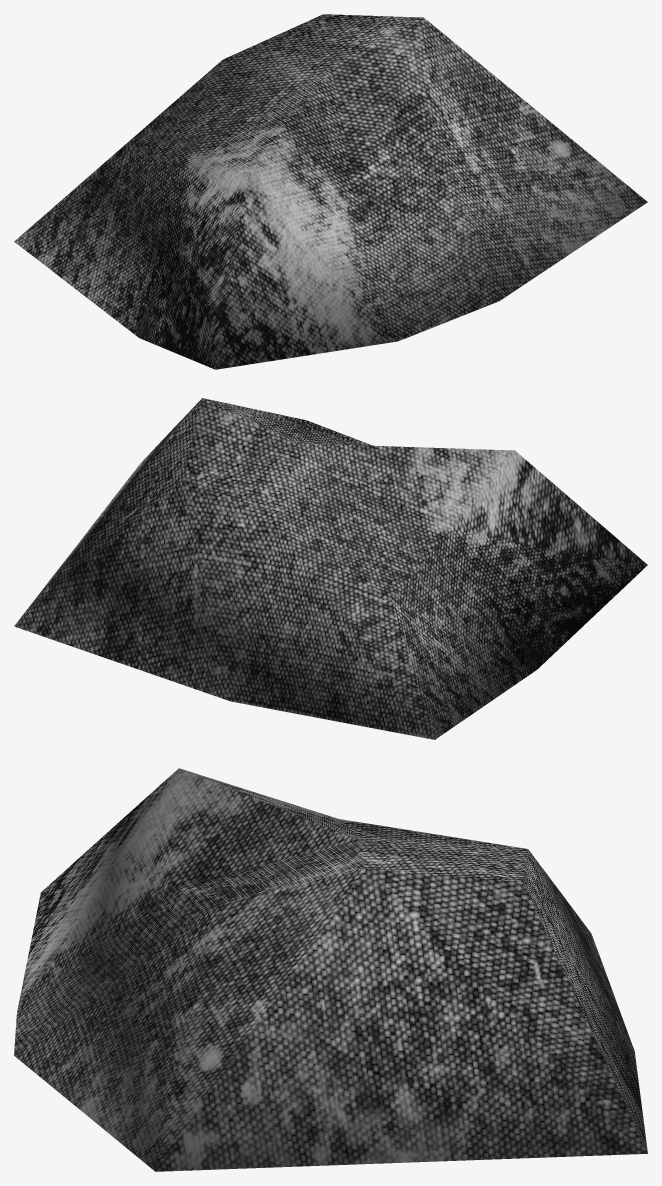
Rendered from Cloth3.fbx.
3 views of the same model, one above another, from view 1: azimuth 30°, elevation 25°; view 2: azimuth 150°, elevation 25°; view 3: azimuth 270°, elevation 25° (orthographic). The views are drawn at different scales.
Visible parts, largest first — view 1: Cloth_3; view 2: Cloth_3; view 3: Cloth_3.
Part boxes in pixels (x1,y1,x2,y2): Cloth_3: [14, 14, 647, 369]; Cloth_3: [14, 398, 647, 739]; Cloth_3: [14, 768, 647, 1171].
Bounding box in the file's own units: 232 × 104 × 204.
1 material, 1 textured.
